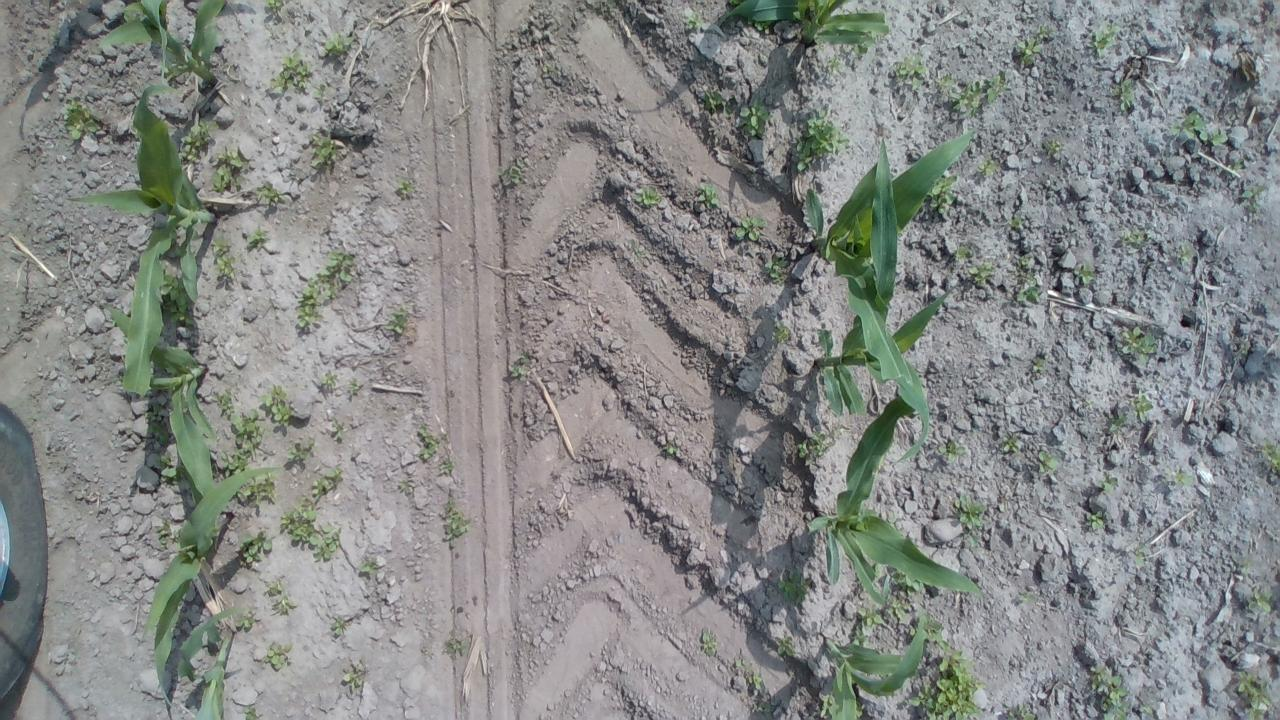Maize: (61, 83, 220, 394), (811, 140, 932, 466), (808, 392, 982, 603), (143, 463, 286, 710), (95, 296, 216, 500), (94, 0, 227, 87), (817, 615, 922, 720), (715, 0, 889, 47), (178, 606, 245, 720)
Weeds: (904, 651, 986, 720), (294, 247, 352, 329), (280, 496, 344, 562), (934, 70, 1009, 120), (796, 112, 850, 172), (159, 264, 195, 330), (1091, 663, 1132, 720), (1170, 112, 1227, 146), (1234, 670, 1272, 720), (952, 494, 986, 548), (270, 52, 311, 96), (177, 118, 217, 163), (211, 144, 247, 192), (258, 383, 295, 428), (62, 97, 99, 141), (848, 606, 884, 650), (415, 420, 450, 464), (1120, 326, 1158, 364), (922, 174, 958, 214), (231, 408, 263, 450), (443, 496, 471, 544), (894, 53, 928, 92), (212, 231, 239, 280), (237, 472, 277, 505), (739, 96, 770, 138), (239, 528, 273, 564), (1087, 22, 1121, 57), (144, 402, 170, 445), (309, 128, 336, 168), (384, 302, 416, 335), (154, 452, 186, 483), (263, 641, 294, 673), (778, 574, 812, 603), (923, 616, 949, 652), (312, 465, 344, 494), (496, 157, 529, 185), (704, 90, 738, 117), (893, 565, 923, 595), (318, 32, 354, 57), (1255, 440, 1280, 475), (218, 448, 248, 477), (287, 433, 314, 464), (735, 216, 767, 242), (1016, 272, 1042, 304), (966, 257, 993, 286), (1112, 78, 1134, 112), (1130, 392, 1153, 424), (1015, 36, 1041, 64), (764, 255, 788, 284), (1248, 584, 1272, 613), (329, 414, 352, 444), (254, 182, 282, 206), (342, 662, 364, 692), (808, 431, 833, 457), (936, 441, 966, 462), (887, 596, 912, 621), (696, 182, 720, 208), (1244, 186, 1266, 213), (768, 320, 792, 344), (634, 187, 660, 209), (245, 226, 268, 250), (1036, 450, 1058, 475), (1098, 470, 1118, 496), (510, 352, 530, 378), (218, 388, 236, 416), (1006, 704, 1036, 720), (976, 158, 1002, 176), (775, 634, 796, 656), (1170, 470, 1196, 487), (623, 239, 645, 259), (276, 594, 296, 616), (702, 630, 718, 657), (158, 518, 172, 548), (1076, 262, 1095, 284), (1002, 435, 1022, 455), (446, 638, 468, 656), (319, 368, 337, 390), (746, 18, 772, 33), (1086, 510, 1105, 530), (1043, 138, 1064, 156), (1118, 230, 1144, 244), (684, 12, 702, 32), (744, 671, 764, 689), (952, 244, 969, 265), (235, 616, 257, 632), (1017, 591, 1037, 608), (818, 696, 834, 717), (161, 63, 189, 75), (312, 82, 330, 100), (1109, 415, 1128, 432), (826, 54, 842, 74), (264, 578, 284, 594), (397, 478, 417, 494), (332, 614, 346, 636), (1176, 247, 1194, 264), (1134, 544, 1146, 568), (1030, 357, 1048, 373), (438, 457, 454, 475), (398, 178, 416, 194), (346, 374, 359, 395), (1008, 216, 1026, 231), (795, 439, 809, 458), (806, 0, 824, 14), (851, 43, 868, 57), (662, 442, 679, 456), (734, 656, 752, 669), (750, 702, 771, 713), (263, 0, 282, 12), (1226, 159, 1244, 171), (358, 562, 376, 574), (243, 705, 257, 720), (858, 29, 878, 39), (1016, 254, 1031, 267), (1240, 558, 1250, 576), (1038, 25, 1050, 39), (904, 622, 916, 636), (855, 702, 865, 718), (1140, 703, 1152, 716), (541, 64, 553, 76), (900, 225, 910, 236), (171, 526, 180, 538), (815, 40, 824, 48), (200, 430, 209, 438), (728, 0, 738, 5)
